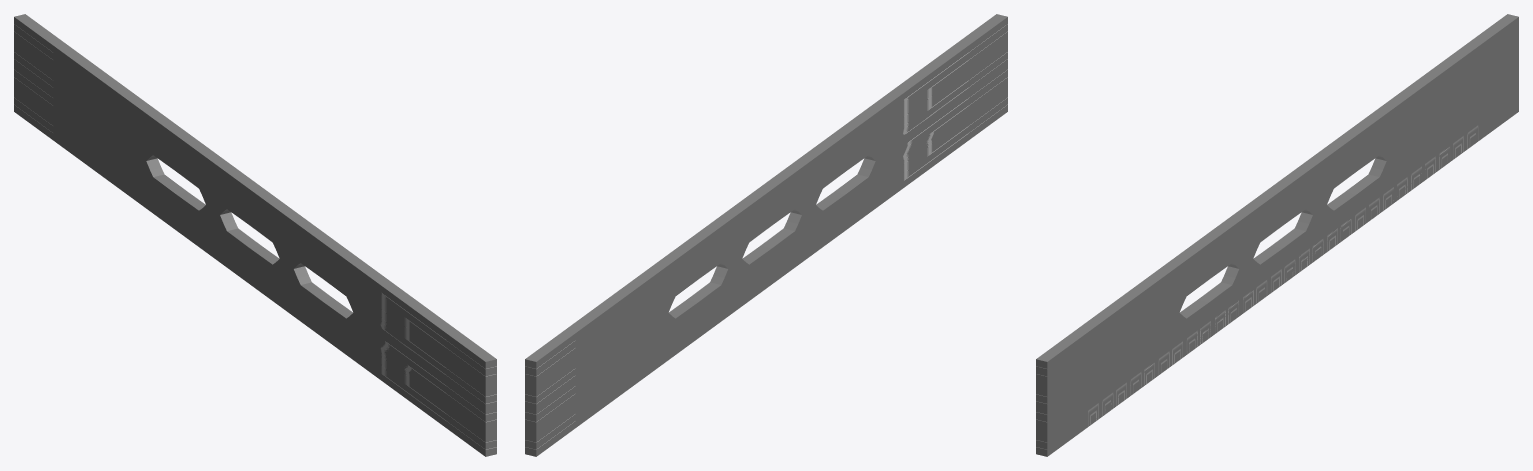
Rendered from windowWall.obj.
3 views of the same model, side by side, from view 1: azimuth 30°, elevation 25°; view 2: azimuth 150°, elevation 25°; view 3: azimuth 330°, elevation 25° (orthographic).
Parts seen in each view (by area): view 1: Plane.002; view 2: Plane.002; view 3: Plane.002.
Boxes of the visible parts, <box> form: Plane.002: <box>14,14,496,456</box>; Plane.002: <box>525,14,1007,456</box>; Plane.002: <box>1036,14,1518,456</box>.
Size of the model in its own units: 0.5 by 4 by 36.
